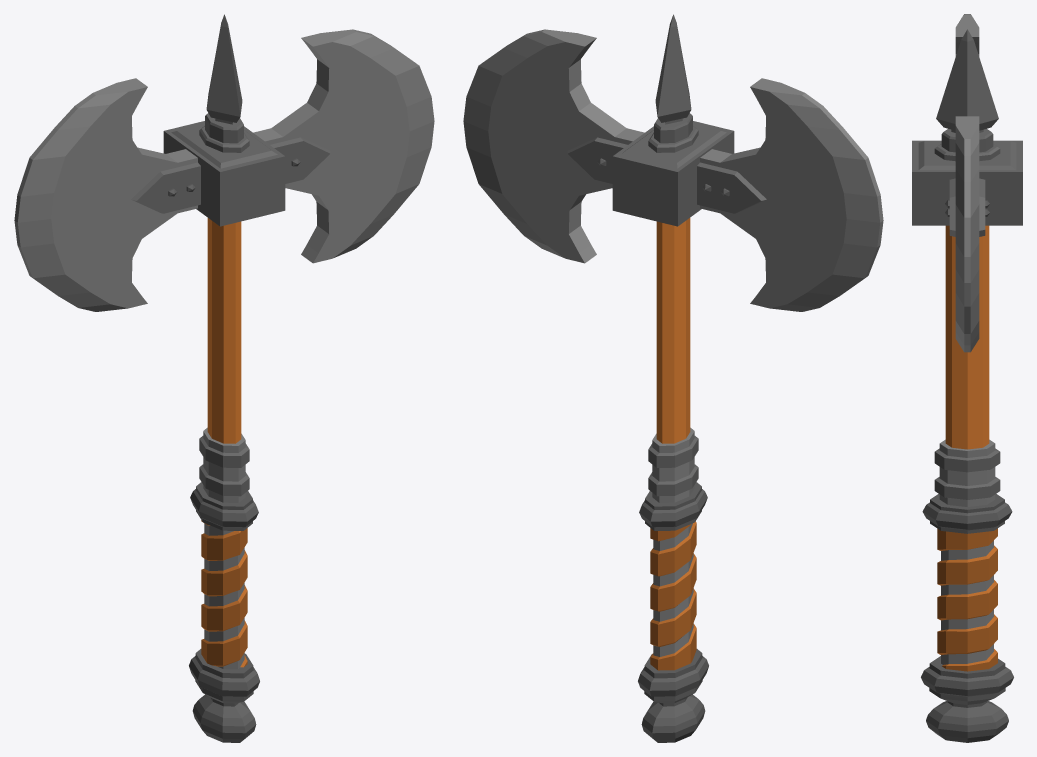
The model's file is Berserk_Axe.fbx.
3 renders of one model, left to right at view 1: azimuth 30°, elevation 25°; view 2: azimuth 150°, elevation 25°; view 3: azimuth 270°, elevation 25°, orthographic.
Parts seen in each view (by area): view 1: Berserk_Axe; view 2: Berserk_Axe; view 3: Berserk_Axe.
Part boxes in pixels (bbox=[...]): Berserk_Axe: bbox=[14, 14, 434, 742]; Berserk_Axe: bbox=[463, 14, 883, 742]; Berserk_Axe: bbox=[912, 14, 1022, 742].
Size of the model in its own units: 223 by 369 by 52.17.
